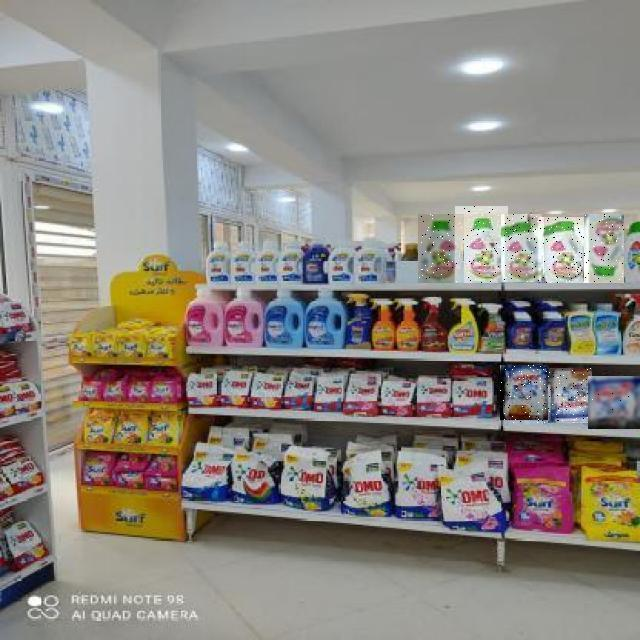Detergent: (455, 206, 508, 283), (540, 217, 589, 283), (418, 214, 464, 283), (502, 215, 544, 283), (500, 366, 549, 424), (584, 214, 624, 283), (588, 376, 640, 429), (548, 368, 592, 423)
